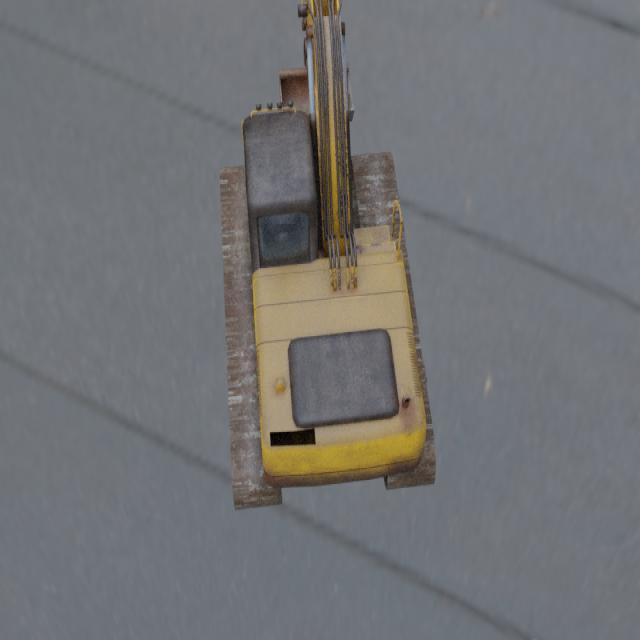excavator: (219, 0, 435, 511)
